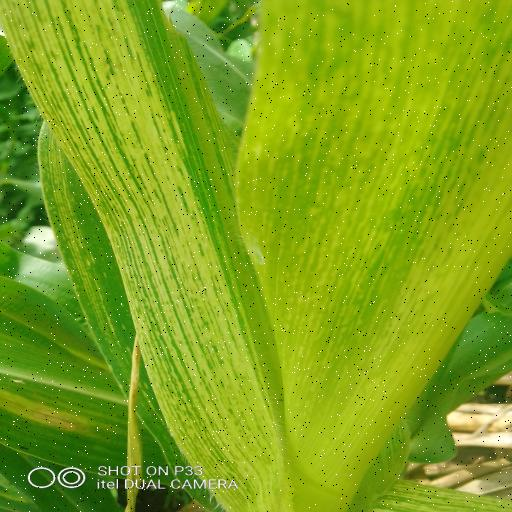Corn_Streak: (15, 2, 512, 512)
